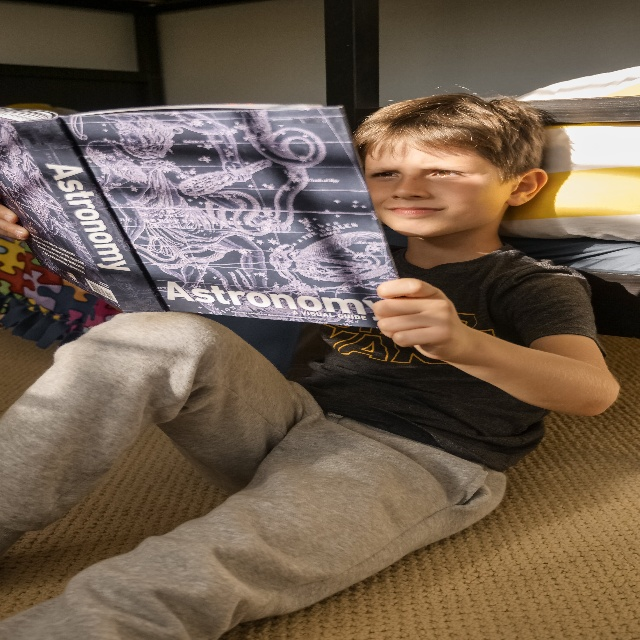Sin_guantes: (373, 273, 460, 368)
